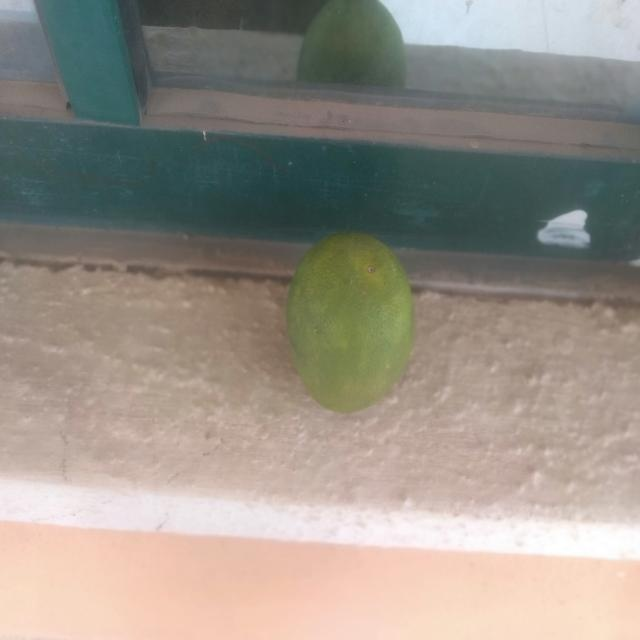agrume: (280, 180, 445, 457)
